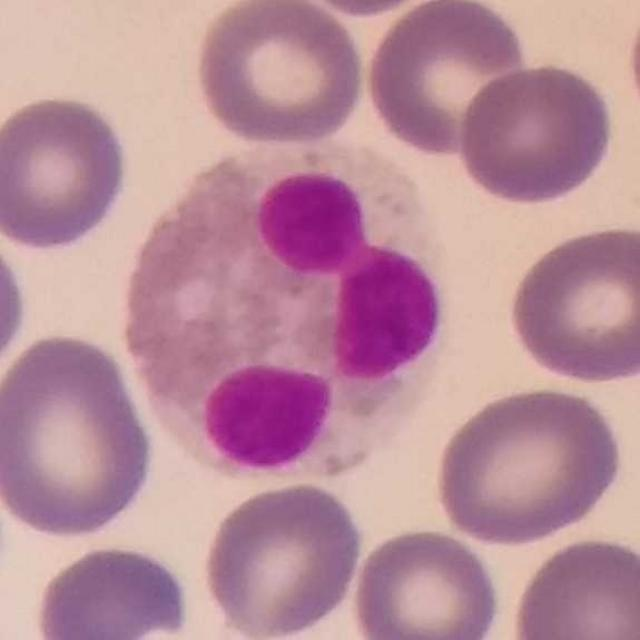eosino: (125, 133, 445, 484)
